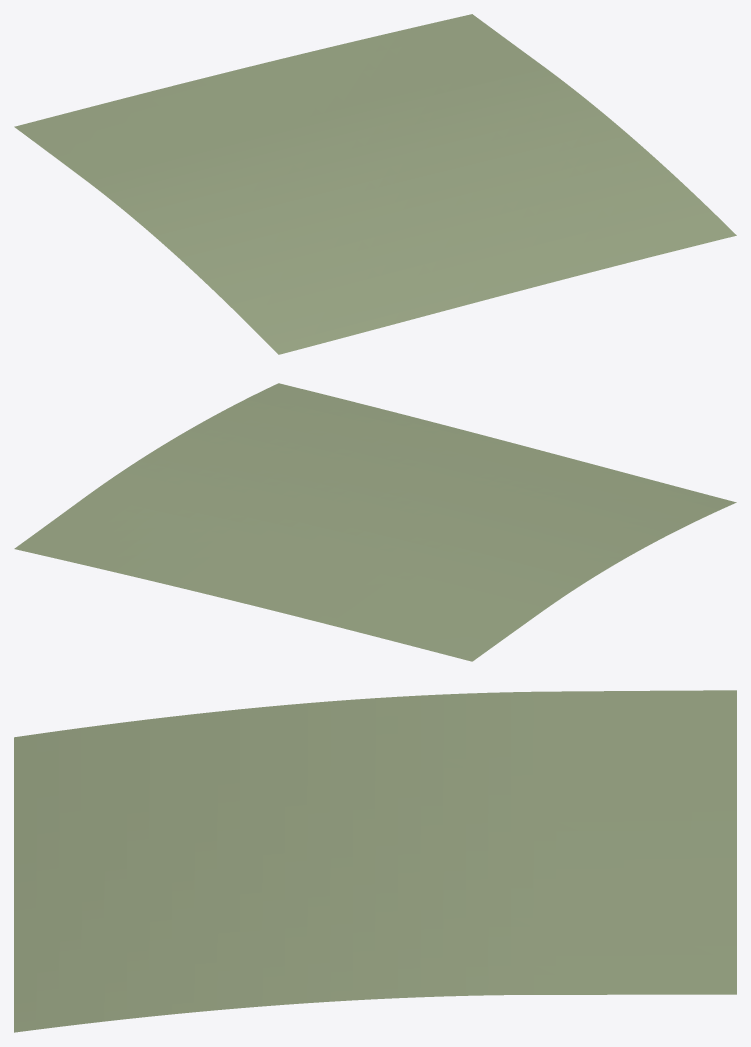
File: expanse-31-17.glb
3 views of the same model, one above another, from view 1: azimuth 30°, elevation 25°; view 2: azimuth 150°, elevation 25°; view 3: azimuth 270°, elevation 25° (orthographic). The views are drawn at different scales.
Parts seen in each view (by area): view 1: expanse-31-17; view 2: expanse-31-17; view 3: expanse-31-17.
Boxes of the visible parts, x1,y1,x2,y2 form: expanse-31-17: [14, 14, 736, 354]; expanse-31-17: [14, 383, 736, 661]; expanse-31-17: [14, 690, 736, 1032].
Bounding box in the file's own units: 256 × 19.79 × 256.
